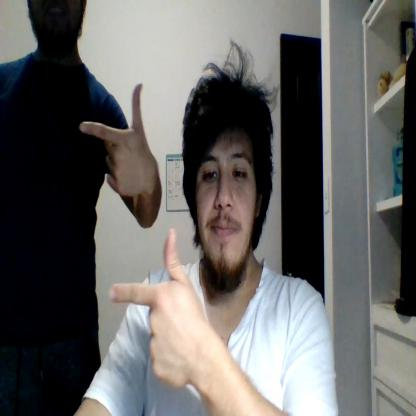G: (109, 227, 203, 387), (79, 83, 151, 197)
